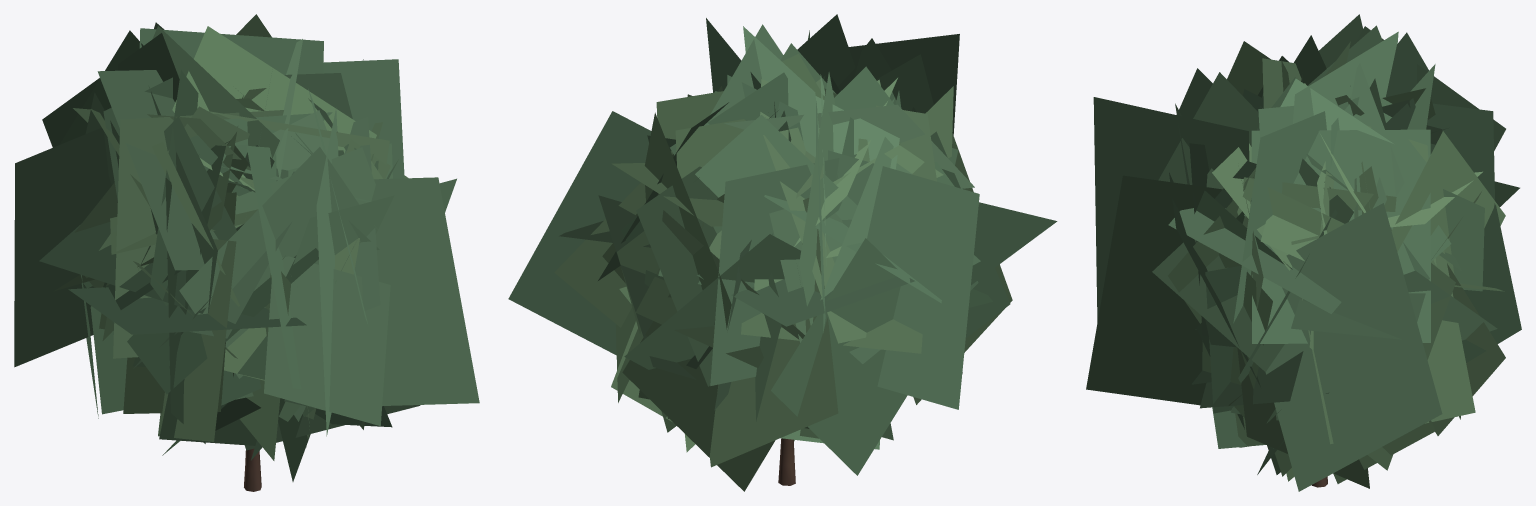
File: pine_lod1.glb
3 renders of one model, left to right at view 1: azimuth 30°, elevation 25°; view 2: azimuth 150°, elevation 25°; view 3: azimuth 270°, elevation 25°, orthographic. The views are drawn at different scales.
Visible parts, largest first — view 1: pine_lod1; view 2: pine_lod1; view 3: pine_lod1.
Boxes of the visible parts, box(x1,y1,x2,y2) form: pine_lod1: box(14, 14, 479, 491); pine_lod1: box(508, 14, 1057, 491); pine_lod1: box(1086, 14, 1521, 491).
Bounding box in the file's own units: 1 × 1 × 0.9188.
